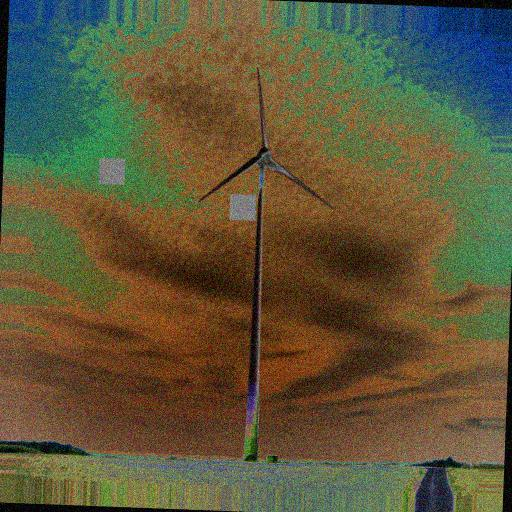wind turbine: (194, 66, 340, 462)
